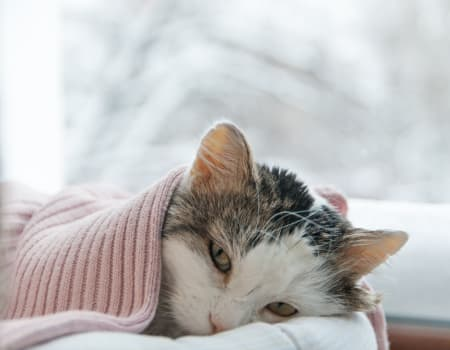cat: (154, 94, 412, 350)
